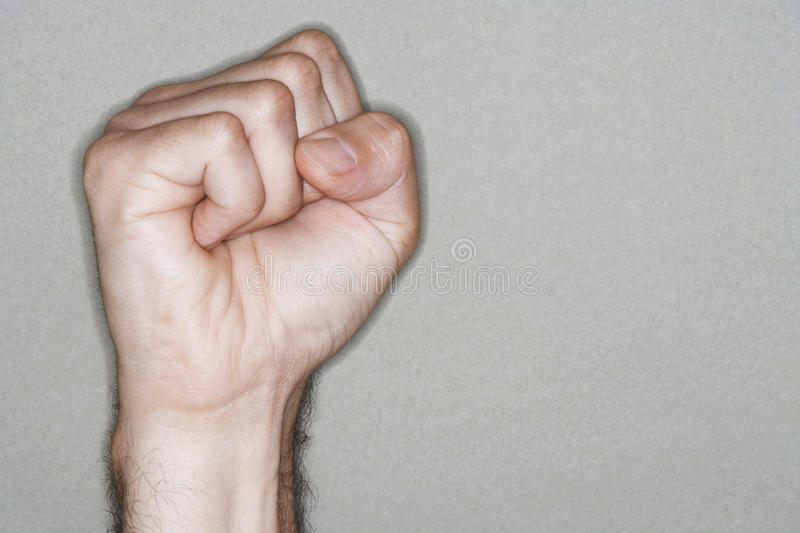fist: (76, 23, 433, 400)
